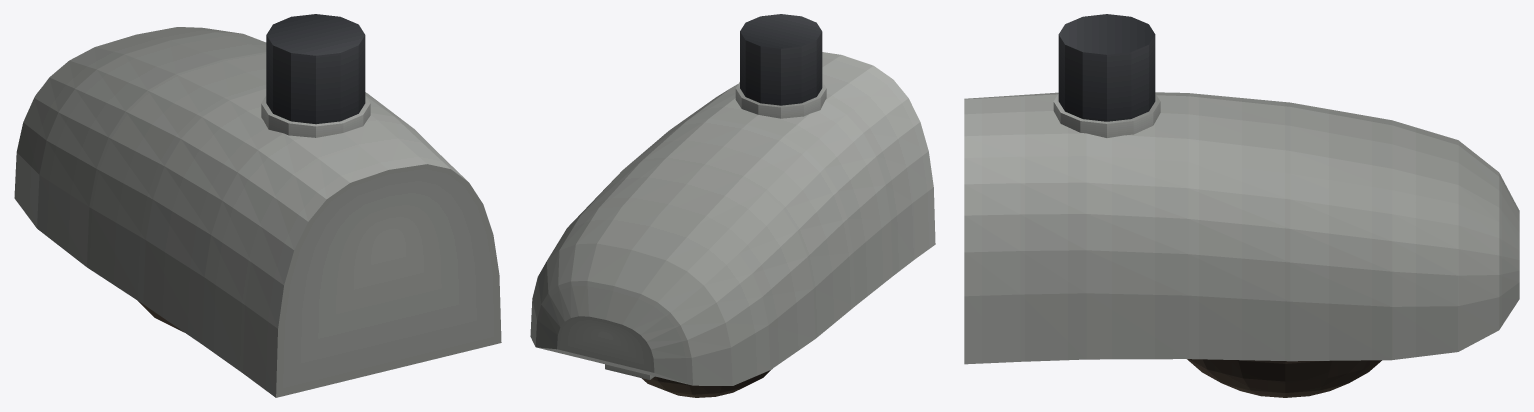
File: streetlight_gem240r2.obj
The picture shows the model from 3 angles, left to right: view 1: azimuth 30°, elevation 25°; view 2: azimuth 150°, elevation 25°; view 3: azimuth 270°, elevation 25°; orthographic projection. The views are drawn at different scales.
Visible parts, largest first — view 1: fixture; view 2: fixture; view 3: fixture.
Part boxes in pixels (x1,y1,x2,y2): fixture: [14, 14, 501, 397]; fixture: [530, 14, 935, 397]; fixture: [964, 14, 1519, 397].
Bounding box in the file's own units: 0.375 × 0.4769 × 0.6812.
